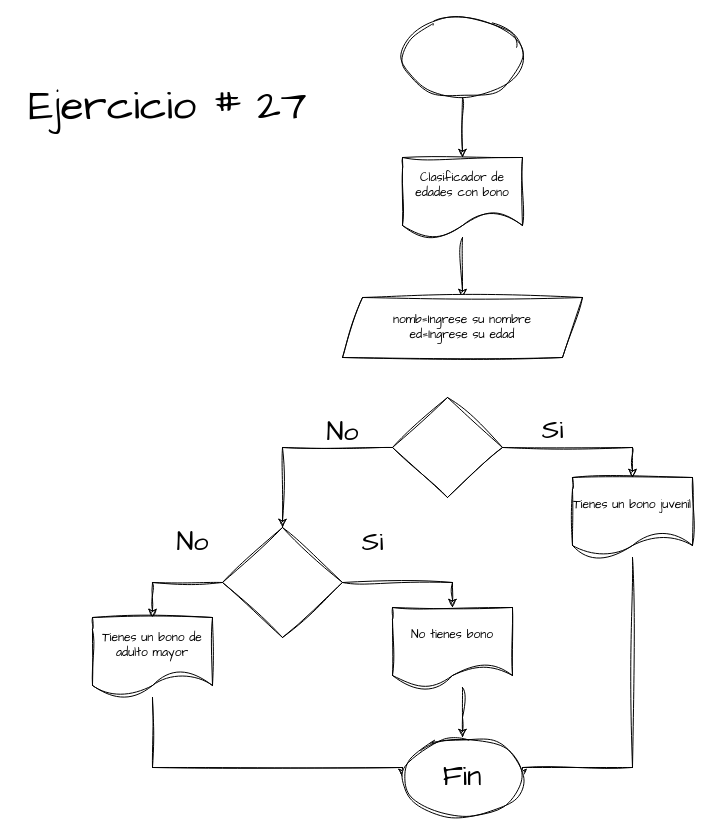
Some shapes in this 710 by 835 pixel diagram are drawn without their labels. Each missing label, with the box of its shape:
Inicio: (402, 16, 522, 98)
Si ed<= 17:: (392, 396, 502, 498)
Si ed<= 18 and ed<= 59:: (222, 526, 342, 638)
